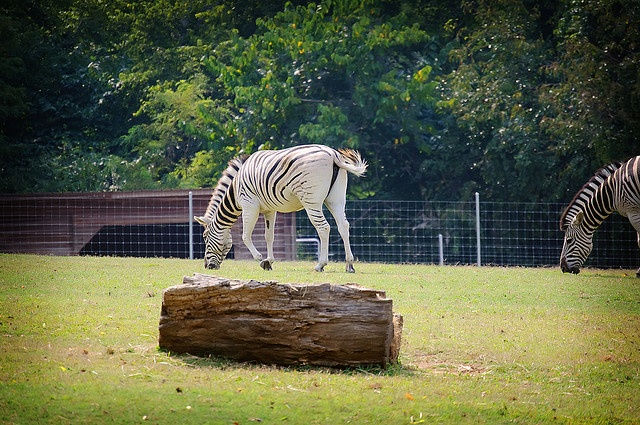zebra: (281, 209, 455, 339), (598, 215, 640, 334)
